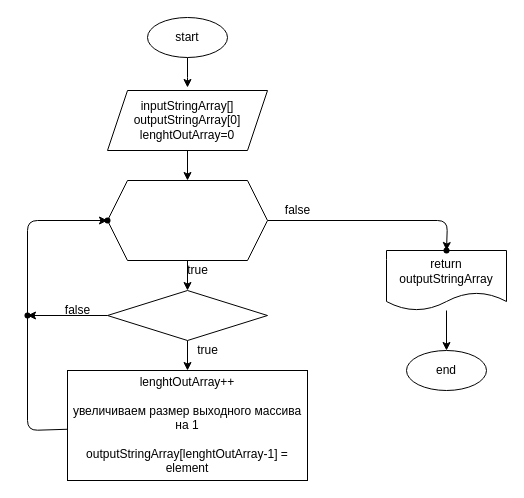
Image size: 524x498. Some labels were removed from this diagram. Each missing label, with the box of its shape:
element.Lenght <= 3: (106, 290, 268, 340)
string element in inputStringArray: (106, 180, 268, 260)
